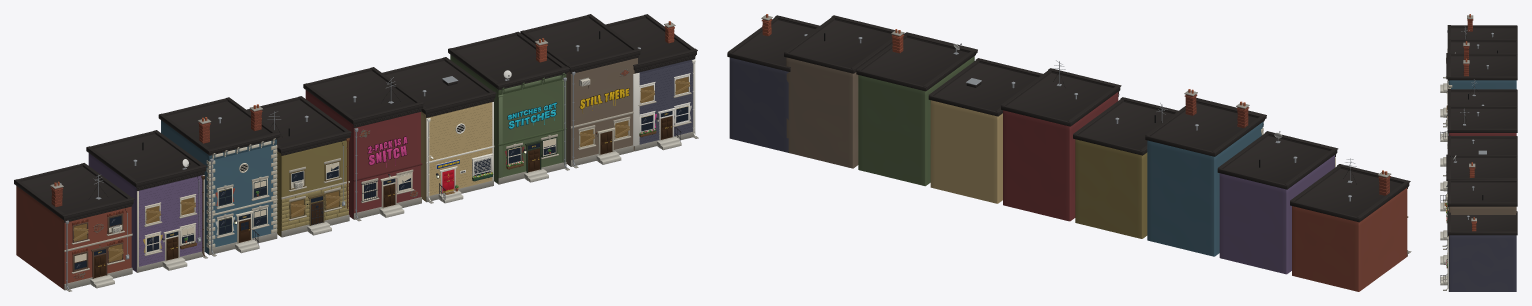
Rendered from houses.glb.
3 renders of one model, left to right at view 1: azimuth 30°, elevation 25°; view 2: azimuth 150°, elevation 25°; view 3: azimuth 270°, elevation 25°, orthographic. The views are drawn at different scales.
Visible parts, largest first — view 1: House_m30, House_m18, House_m6, House_p6, House_m24, House_p12, House_2Pack, House_m12, House_p17; view 2: House_m30, House_m18, House_m6, House_p6, House_m24, House_p12, House_2Pack, House_m12, House_p17; view 3: House_p17, House_m18, House_p12, House_m6, House_p6, House_2Pack, House_m12, House_m30, House_m24.
Boxes of the visible parts, x1=… form: House_m30: x1=14, y1=163, x2=134, y2=291; House_m18: x1=158, y1=97, x2=280, y2=256; House_m6: x1=303, y1=67, x2=424, y2=221; House_p6: x1=448, y1=31, x2=569, y2=184; House_m24: x1=86, y1=130, x2=207, y2=272; House_p12: x1=520, y1=14, x2=641, y2=168; House_2Pack: x1=382, y1=57, x2=496, y2=203; House_m12: x1=246, y1=96, x2=351, y2=237; House_p17: x1=605, y1=14, x2=698, y2=151; House_m30: x1=1290, y1=158, x2=1411, y2=291; House_m18: x1=1145, y1=89, x2=1266, y2=256; House_m6: x1=1001, y1=60, x2=1121, y2=221; House_p6: x1=856, y1=29, x2=977, y2=186; House_m24: x1=1217, y1=131, x2=1338, y2=274; House_p12: x1=784, y1=15, x2=894, y2=168; House_2Pack: x1=928, y1=58, x2=1042, y2=203; House_m12: x1=1073, y1=97, x2=1178, y2=238; House_p17: x1=727, y1=14, x2=819, y2=152; House_p17: x1=1440, y1=210, x2=1517, y2=291; House_m18: x1=1440, y1=41, x2=1517, y2=141; House_p12: x1=1440, y1=179, x2=1517, y2=264; House_m6: x1=1440, y1=105, x2=1517, y2=191; House_p6: x1=1440, y1=154, x2=1517, y2=246; House_2Pack: x1=1440, y1=135, x2=1517, y2=213; House_m12: x1=1440, y1=79, x2=1517, y2=166; House_m30: x1=1440, y1=14, x2=1517, y2=92; House_m24: x1=1440, y1=39, x2=1517, y2=124.
Bounding box in the file's own units: 52.62 × 10 × 8.
